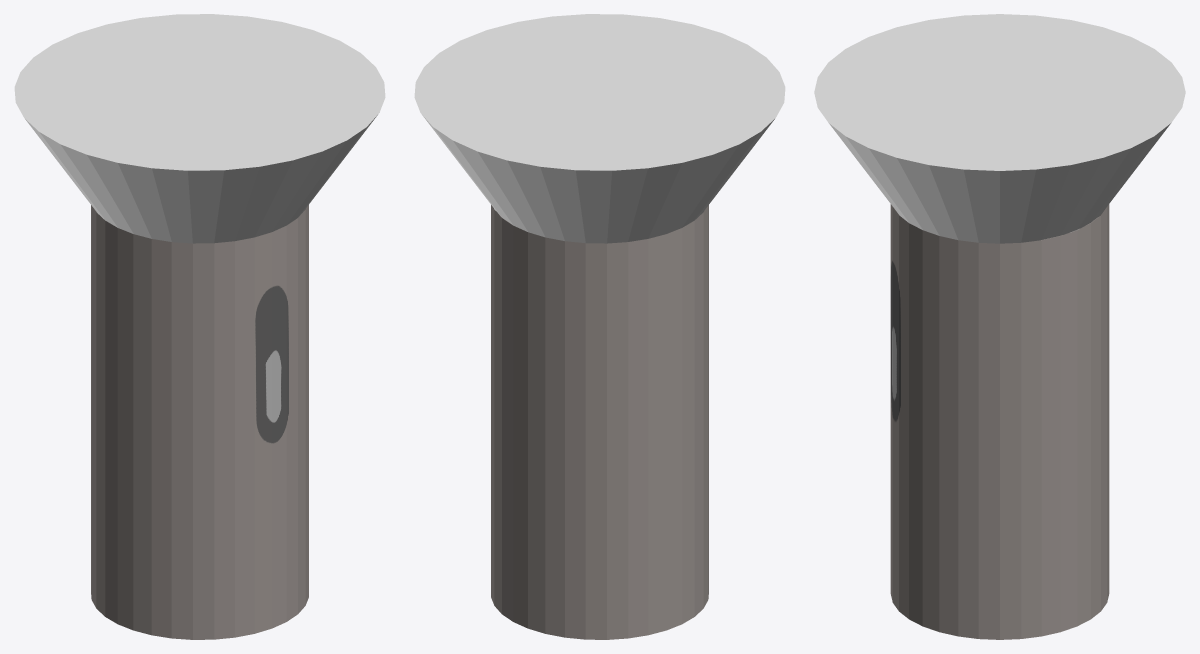
File: flash.fbx
3 views of the same model, side by side, from view 1: azimuth 30°, elevation 25°; view 2: azimuth 150°, elevation 25°; view 3: azimuth 270°, elevation 25° (orthographic).
Visible parts, largest first — view 1: 柱体, 锥体; view 2: 柱体, 锥体; view 3: 柱体, 锥体.
Part boxes in pixels (x1=…): 柱体: x1=91, y1=205, x2=308, y2=639; 锥体: x1=14, y1=14, x2=385, y2=243; 柱体: x1=491, y1=205, x2=708, y2=639; 锥体: x1=414, y1=14, x2=785, y2=243; 柱体: x1=890, y1=204, x2=1109, y2=639; 锥体: x1=814, y1=14, x2=1185, y2=243.
Size of the model in its own units: 340 by 506 by 340.
Materials: 1 (1 with a texture image).
